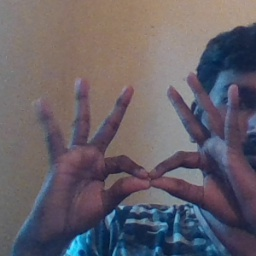B: (78, 113, 227, 217)
